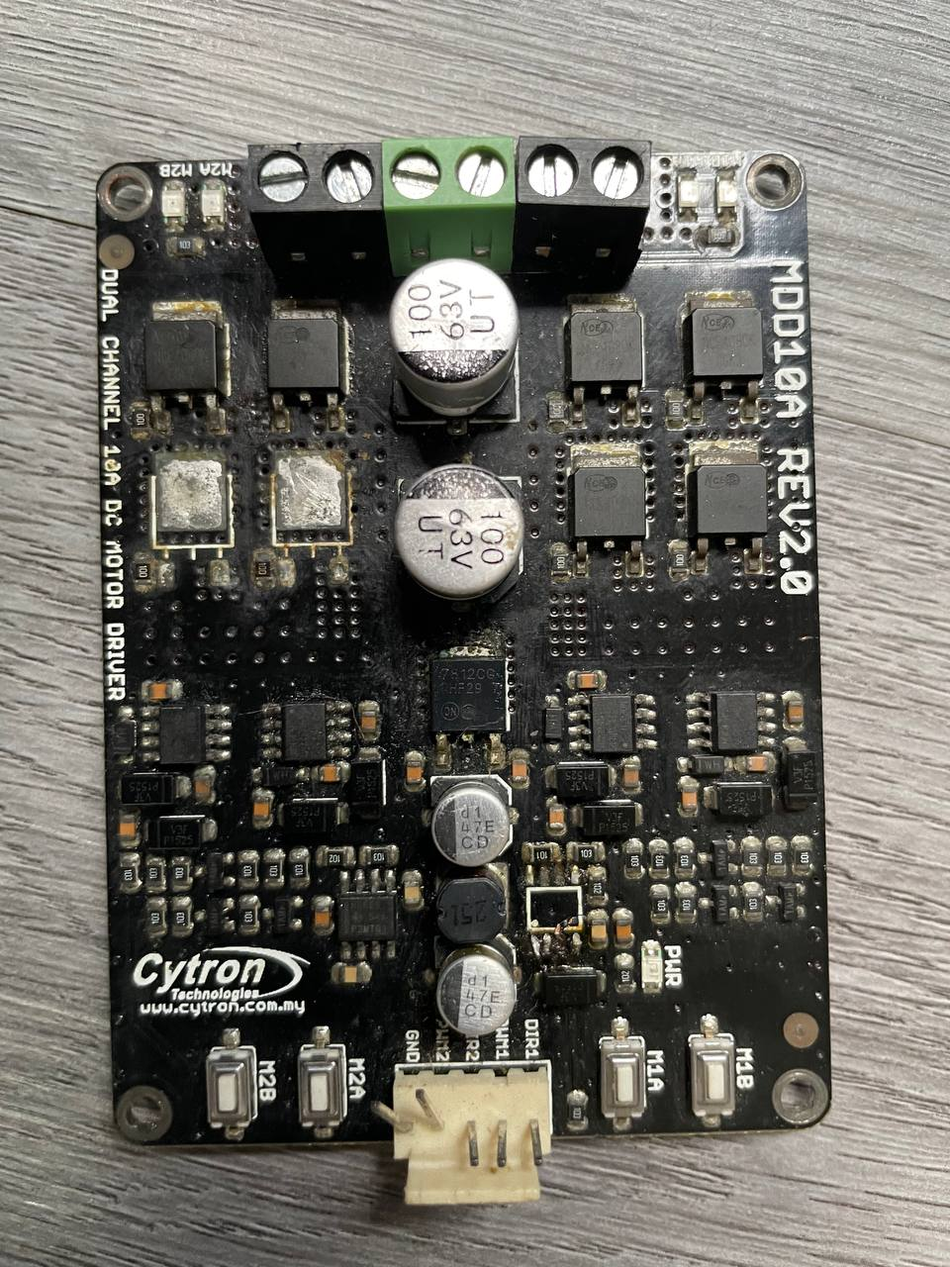bent_pin: (359, 1094, 415, 1143), (412, 1085, 449, 1134)
missing_comp: (267, 450, 358, 564), (146, 460, 238, 565), (522, 877, 588, 934)
